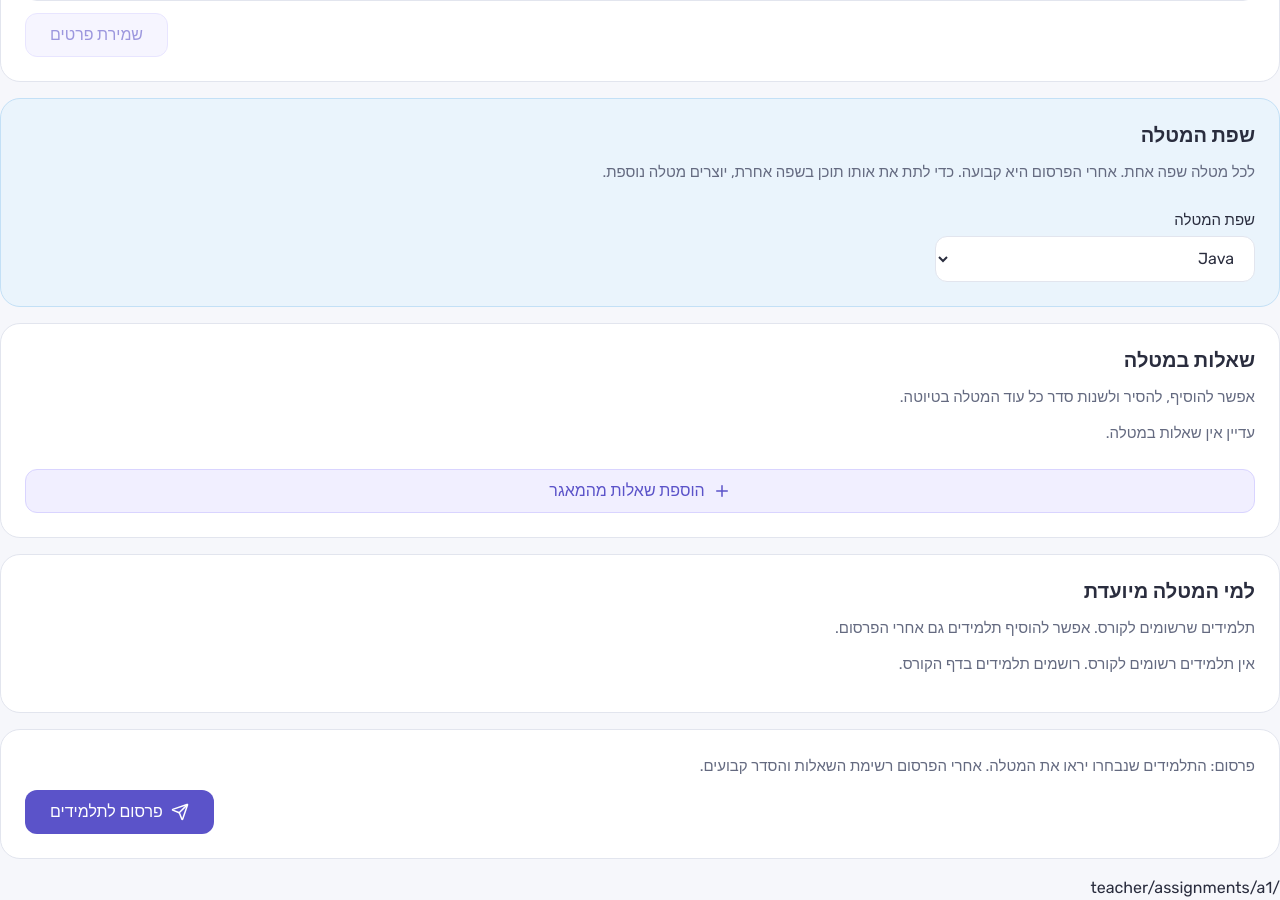
Test case: UX FIX 2 — publish feedback › no questions: the dialog STAYS OPEN, a specific error shows inside it, no success UI
(page scrolled)
Click the button "פרסום לתלמידים". click: {"x": 119, "y": 812}
box: 25,790 -> 214,834
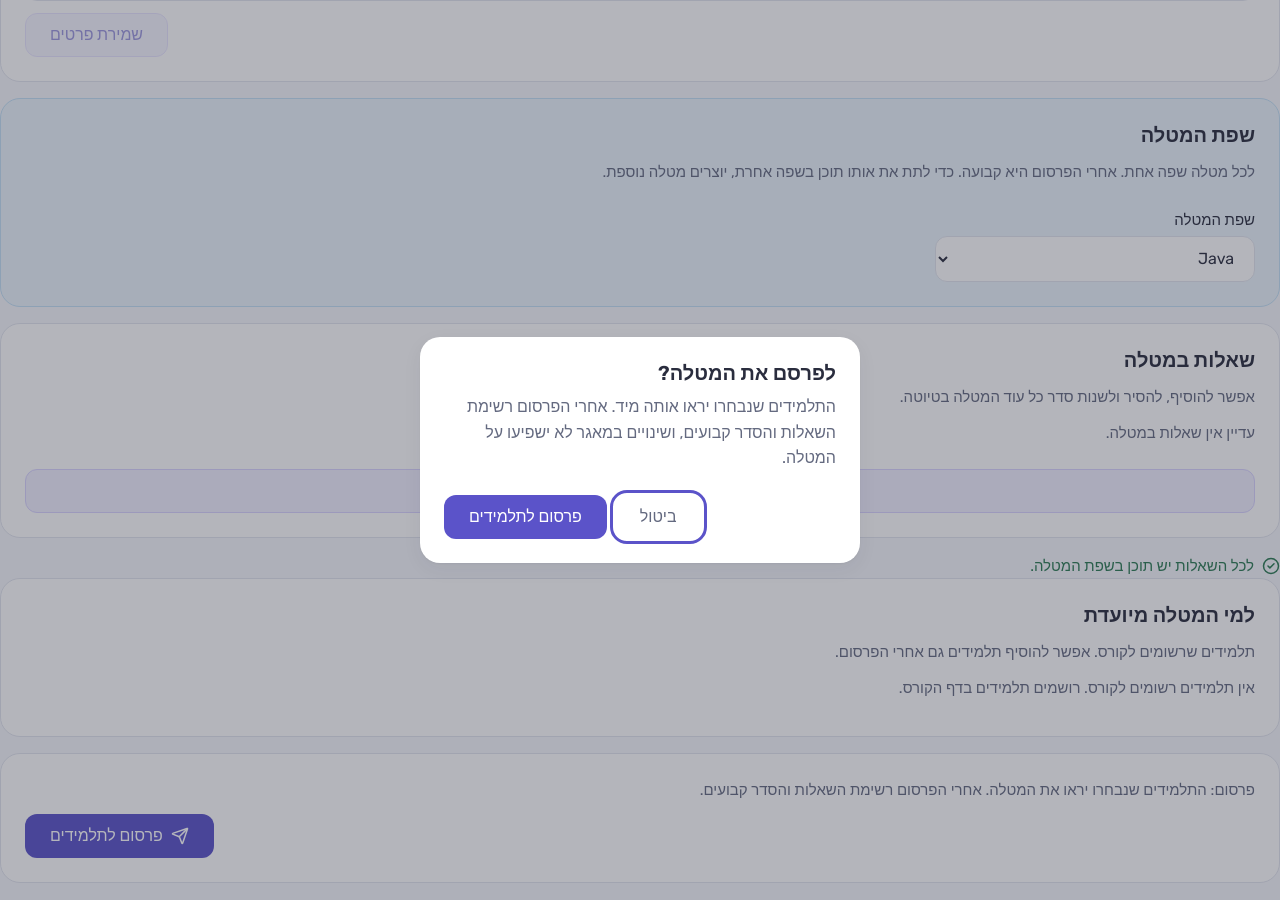
Click the button "פרסום לתלמידים". click: {"x": 525, "y": 517}
box: 444,495 -> 607,539
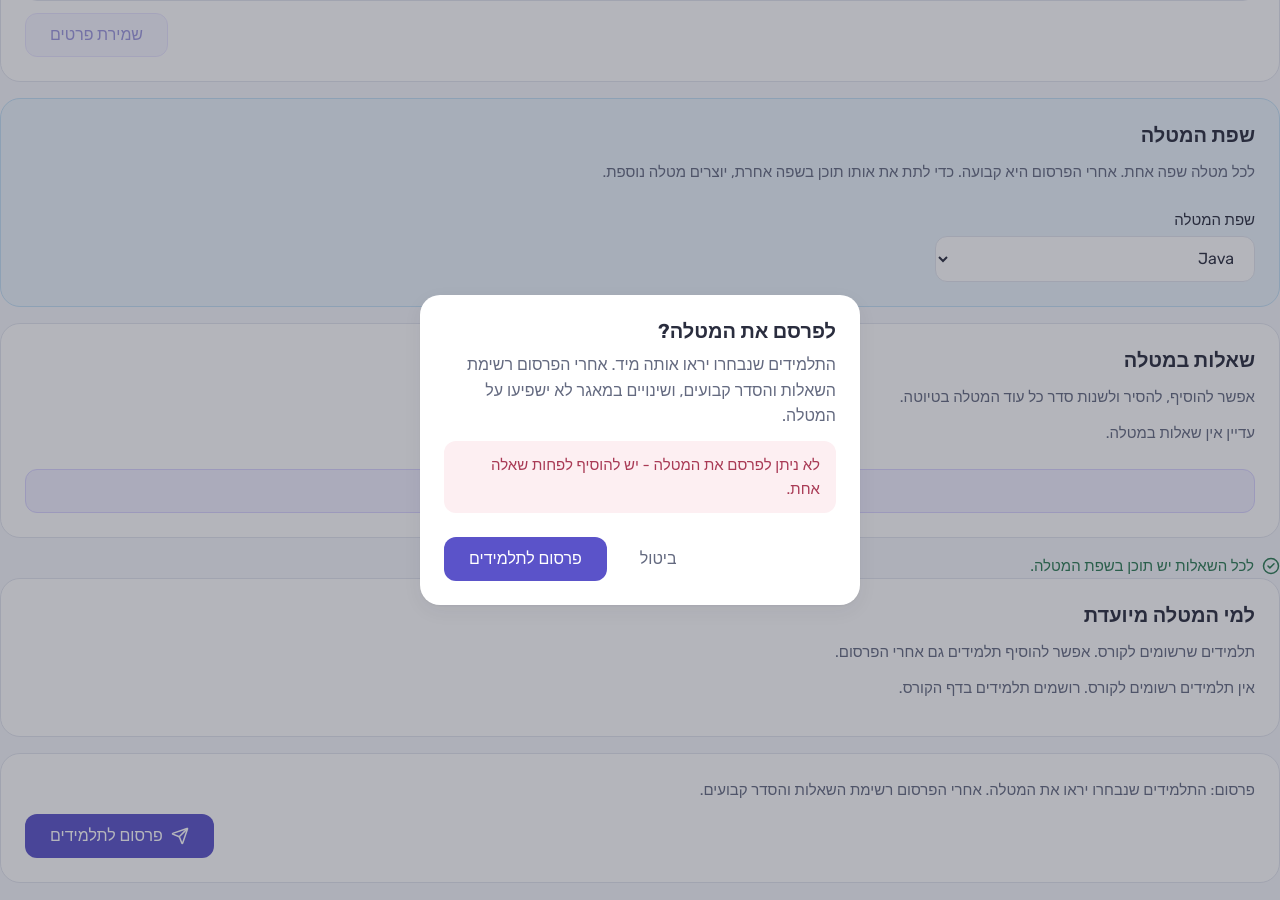
Check: the message "לא ניתן לפרסם את המטלה - יש להוסיף לפחות שאלה אחת." is shown, box 444,441 -> 836,513
